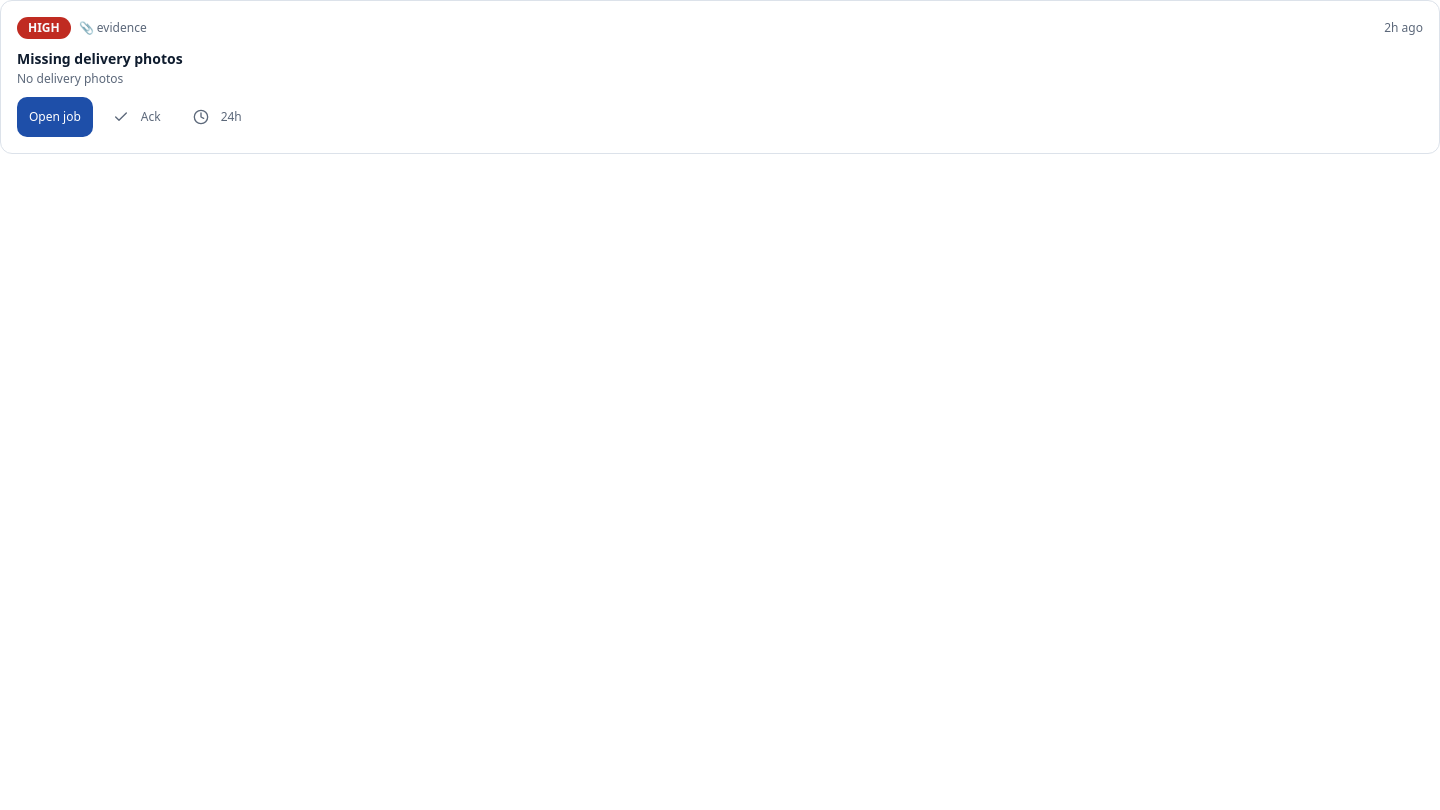
AttentionQueue acknowledgements › snoozes for 24 hours
Later steps or results of the test are not shown.
Click the button "24h" at x=217, y=117, box [181, 99, 254, 135]
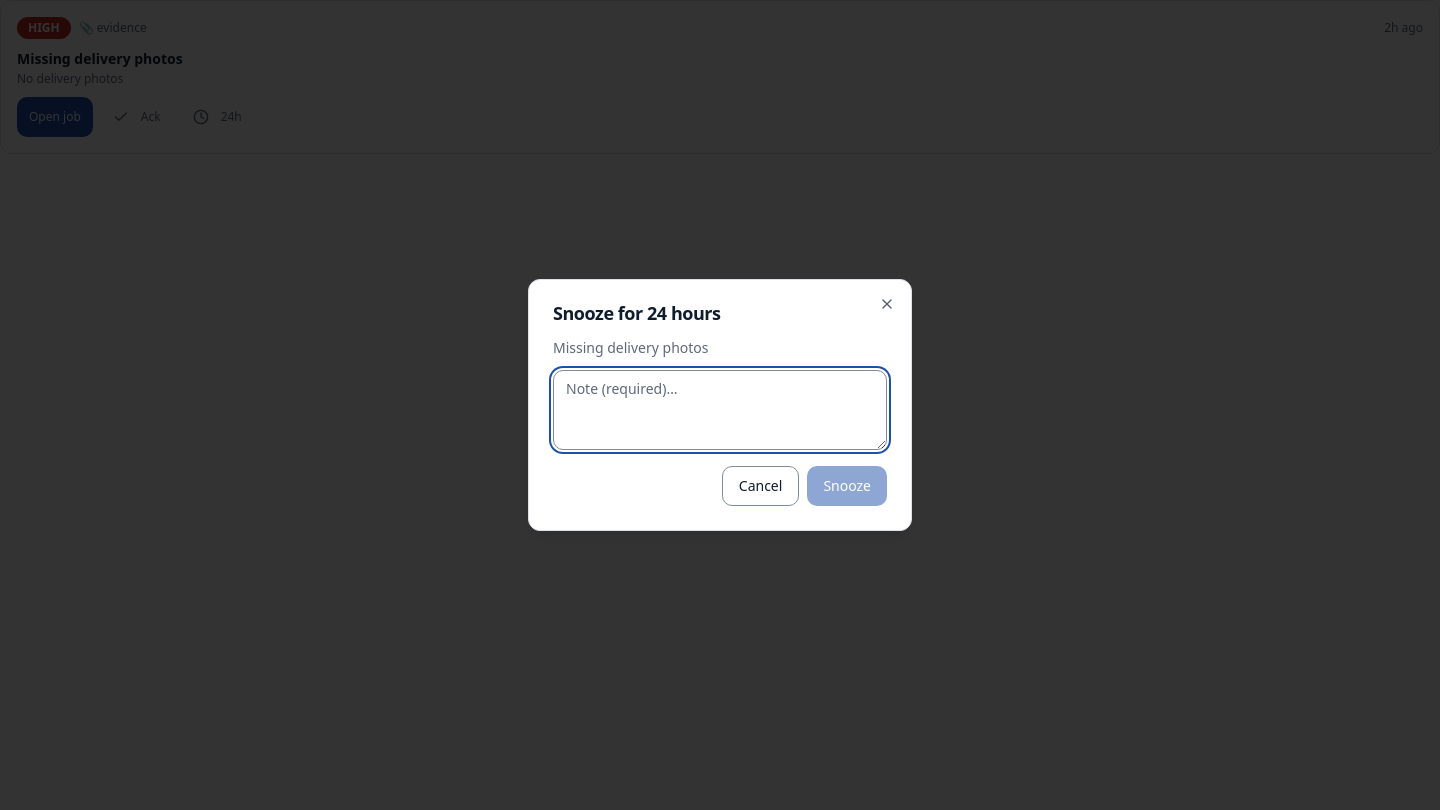
Now the button "Snooze" is disabled, box [807, 466, 887, 506]
